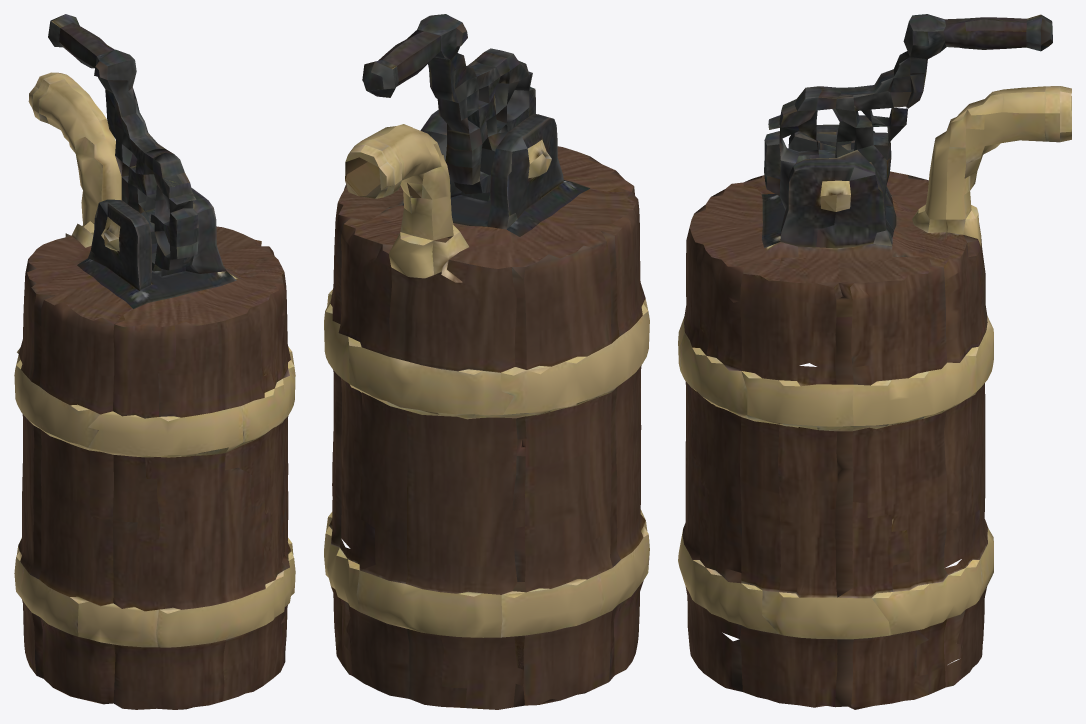
File: pompe.glb
The picture shows the model from 3 angles, left to right: view 1: azimuth 30°, elevation 25°; view 2: azimuth 150°, elevation 25°; view 3: azimuth 270°, elevation 25°; orthographic projection. The views are drawn at different scales.
Parts seen in each view (by area): view 1: pompe; view 2: pompe; view 3: pompe.
Part boxes in pixels (box(x1,y1,x2,y2)): pompe: box(14, 14, 295, 709); pompe: box(324, 14, 649, 709); pompe: box(678, 14, 1071, 709).
Bounding box in the file's own units: 0.5717 × 1.3 × 0.7293.
Materials: 1 (1 with a texture image).
